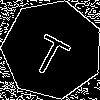T: (27, 24, 77, 80)
